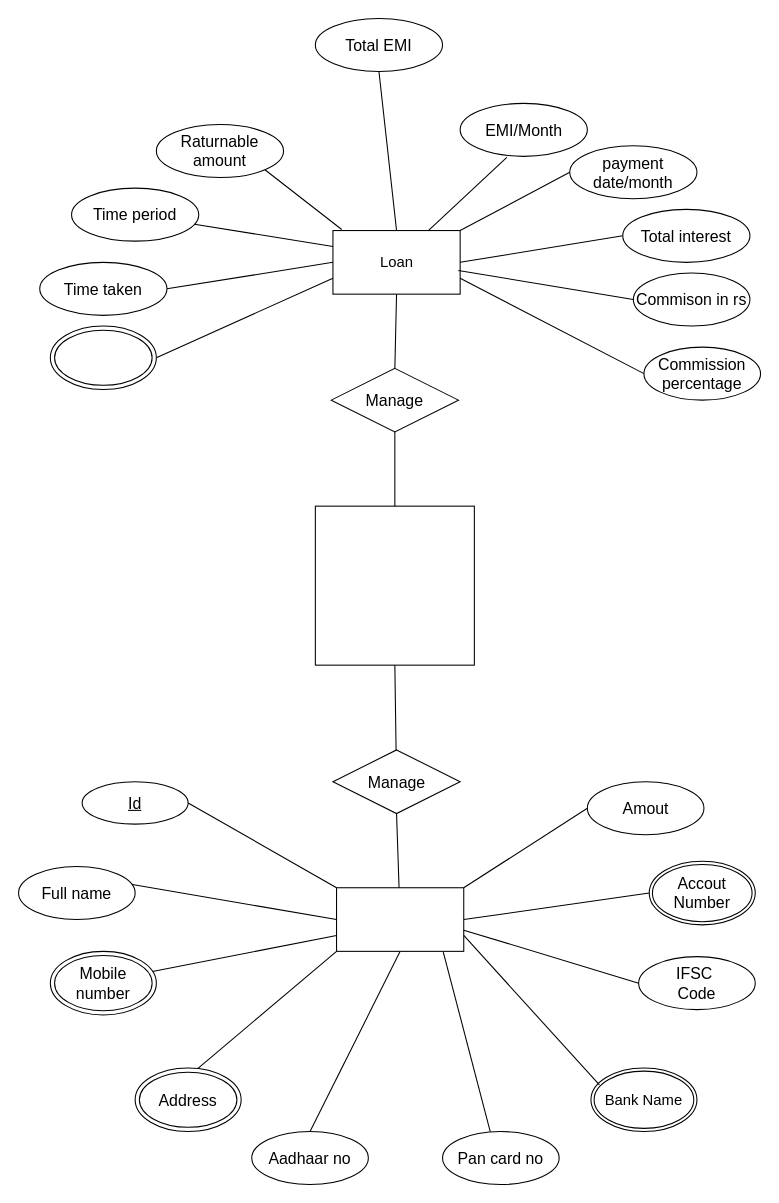
Some shapes in this 779 by 1203 pixel diagram are drawn without their labels. Each missing label, with the centre of its shape:
"Admin" goes at point 394,585.
"Commission To" goes at point 102,357.
"User" goes at point 399,919.
